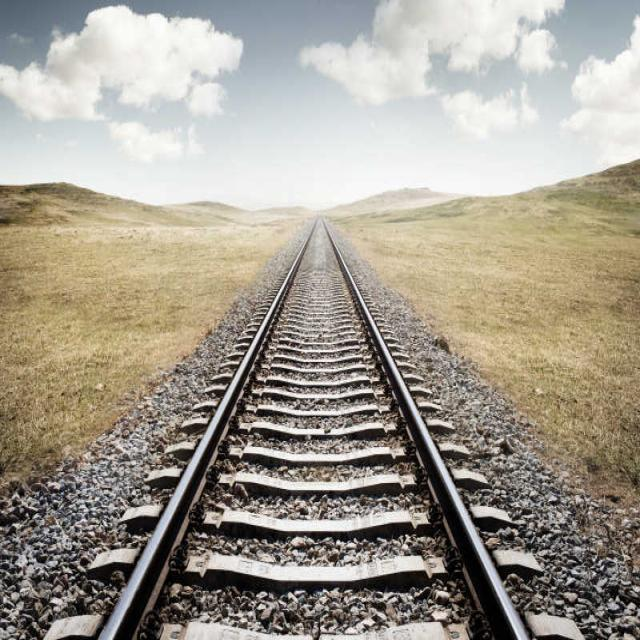rail-track: (45, 220, 535, 639)
